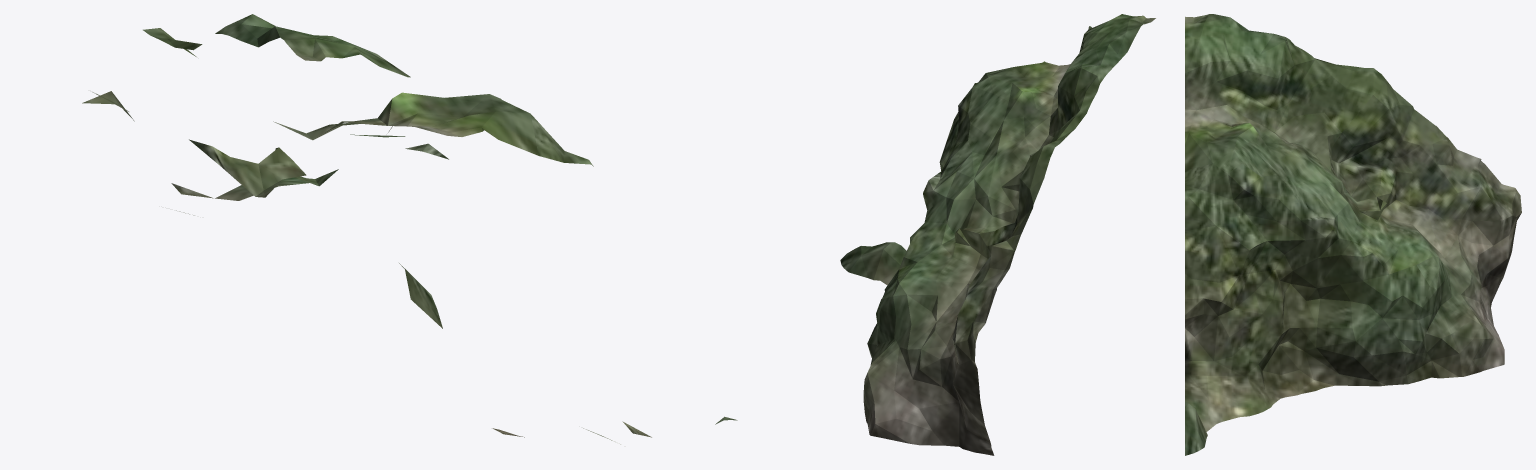
3 views of the same model, side by side, from view 1: azimuth 30°, elevation 25°; view 2: azimuth 150°, elevation 25°; view 3: azimuth 270°, elevation 25° (orthographic). The views are drawn at different scales.
Size of the model in its own units: 1.81 by 1.76 by 1.8.
Materials: 2 (2 with a texture image).
